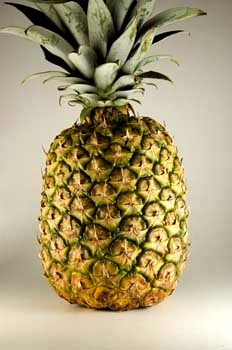pineapple: (0, 1, 207, 311)
